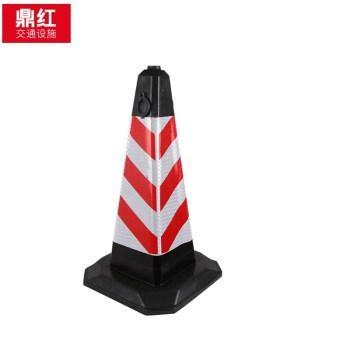cone_barrel: (87, 68, 213, 311)
